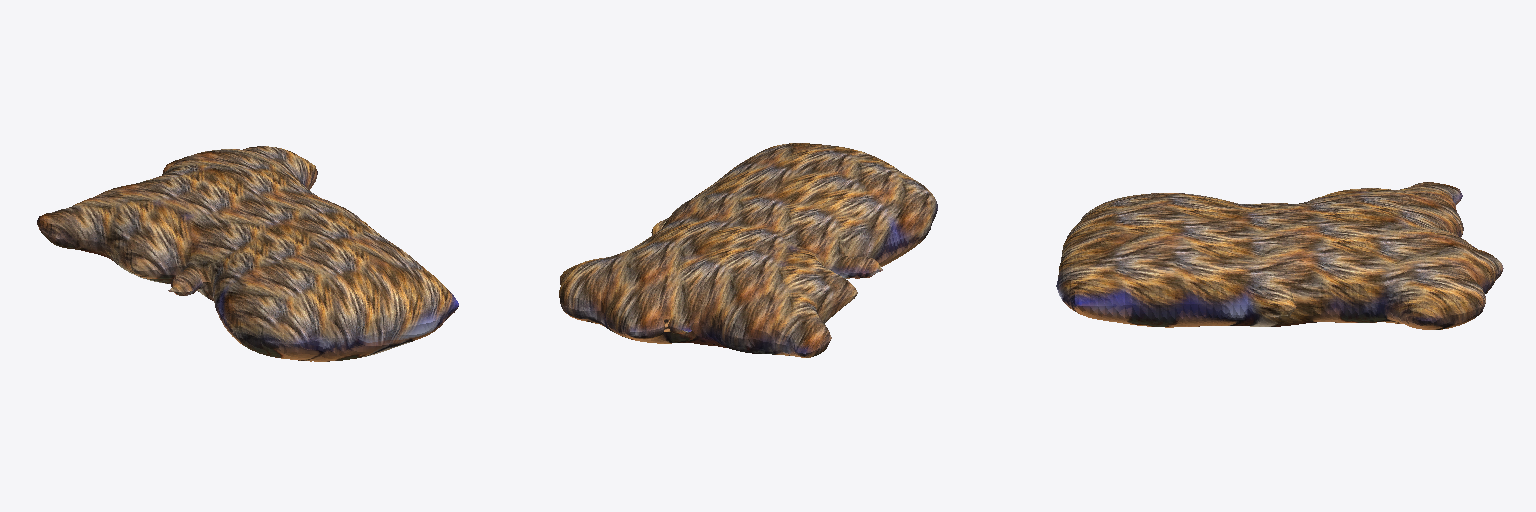
The picture shows the model from 3 angles: view 1: azimuth 30°, elevation 25°; view 2: azimuth 150°, elevation 25°; view 3: azimuth 270°, elevation 25°; orthographic projection.
Parts seen in each view (by area): view 1: Object.1; view 2: Object.1; view 3: Object.1.
Boxes of the visible parts, x1,y1,x2,y2 form: Object.1: [37, 146, 458, 361]; Object.1: [559, 143, 937, 357]; Object.1: [1056, 182, 1503, 329].
Size of the model in its own units: 0.257 by 0.0842 by 0.3738.
Materials: 1 (1 with a texture image).